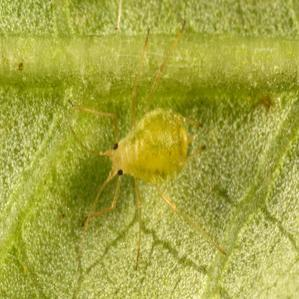Green peach aphid: (51, 59, 224, 239)
